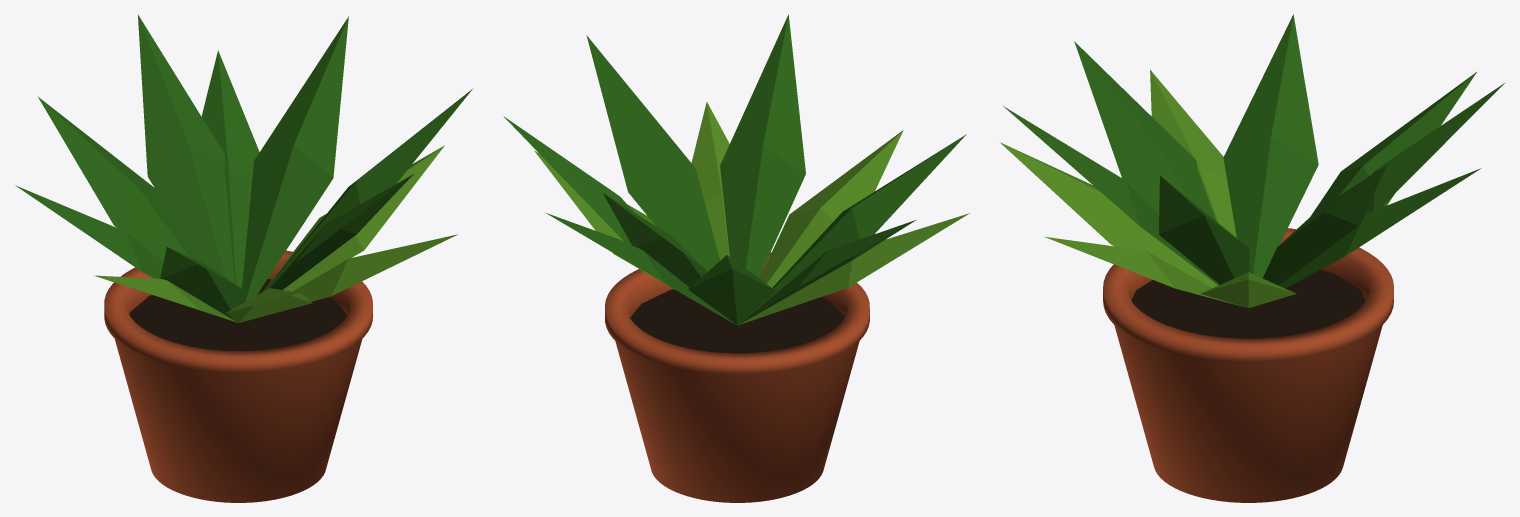
File: Pozsgas_cserepben.obj
The picture shows the model from 3 angles, left to right: view 1: azimuth 30°, elevation 25°; view 2: azimuth 150°, elevation 25°; view 3: azimuth 270°, elevation 25°; orthographic projection. The views are drawn at different scales.
Size of the model in its own units: 0.4763 by 0.4 by 0.4709.
